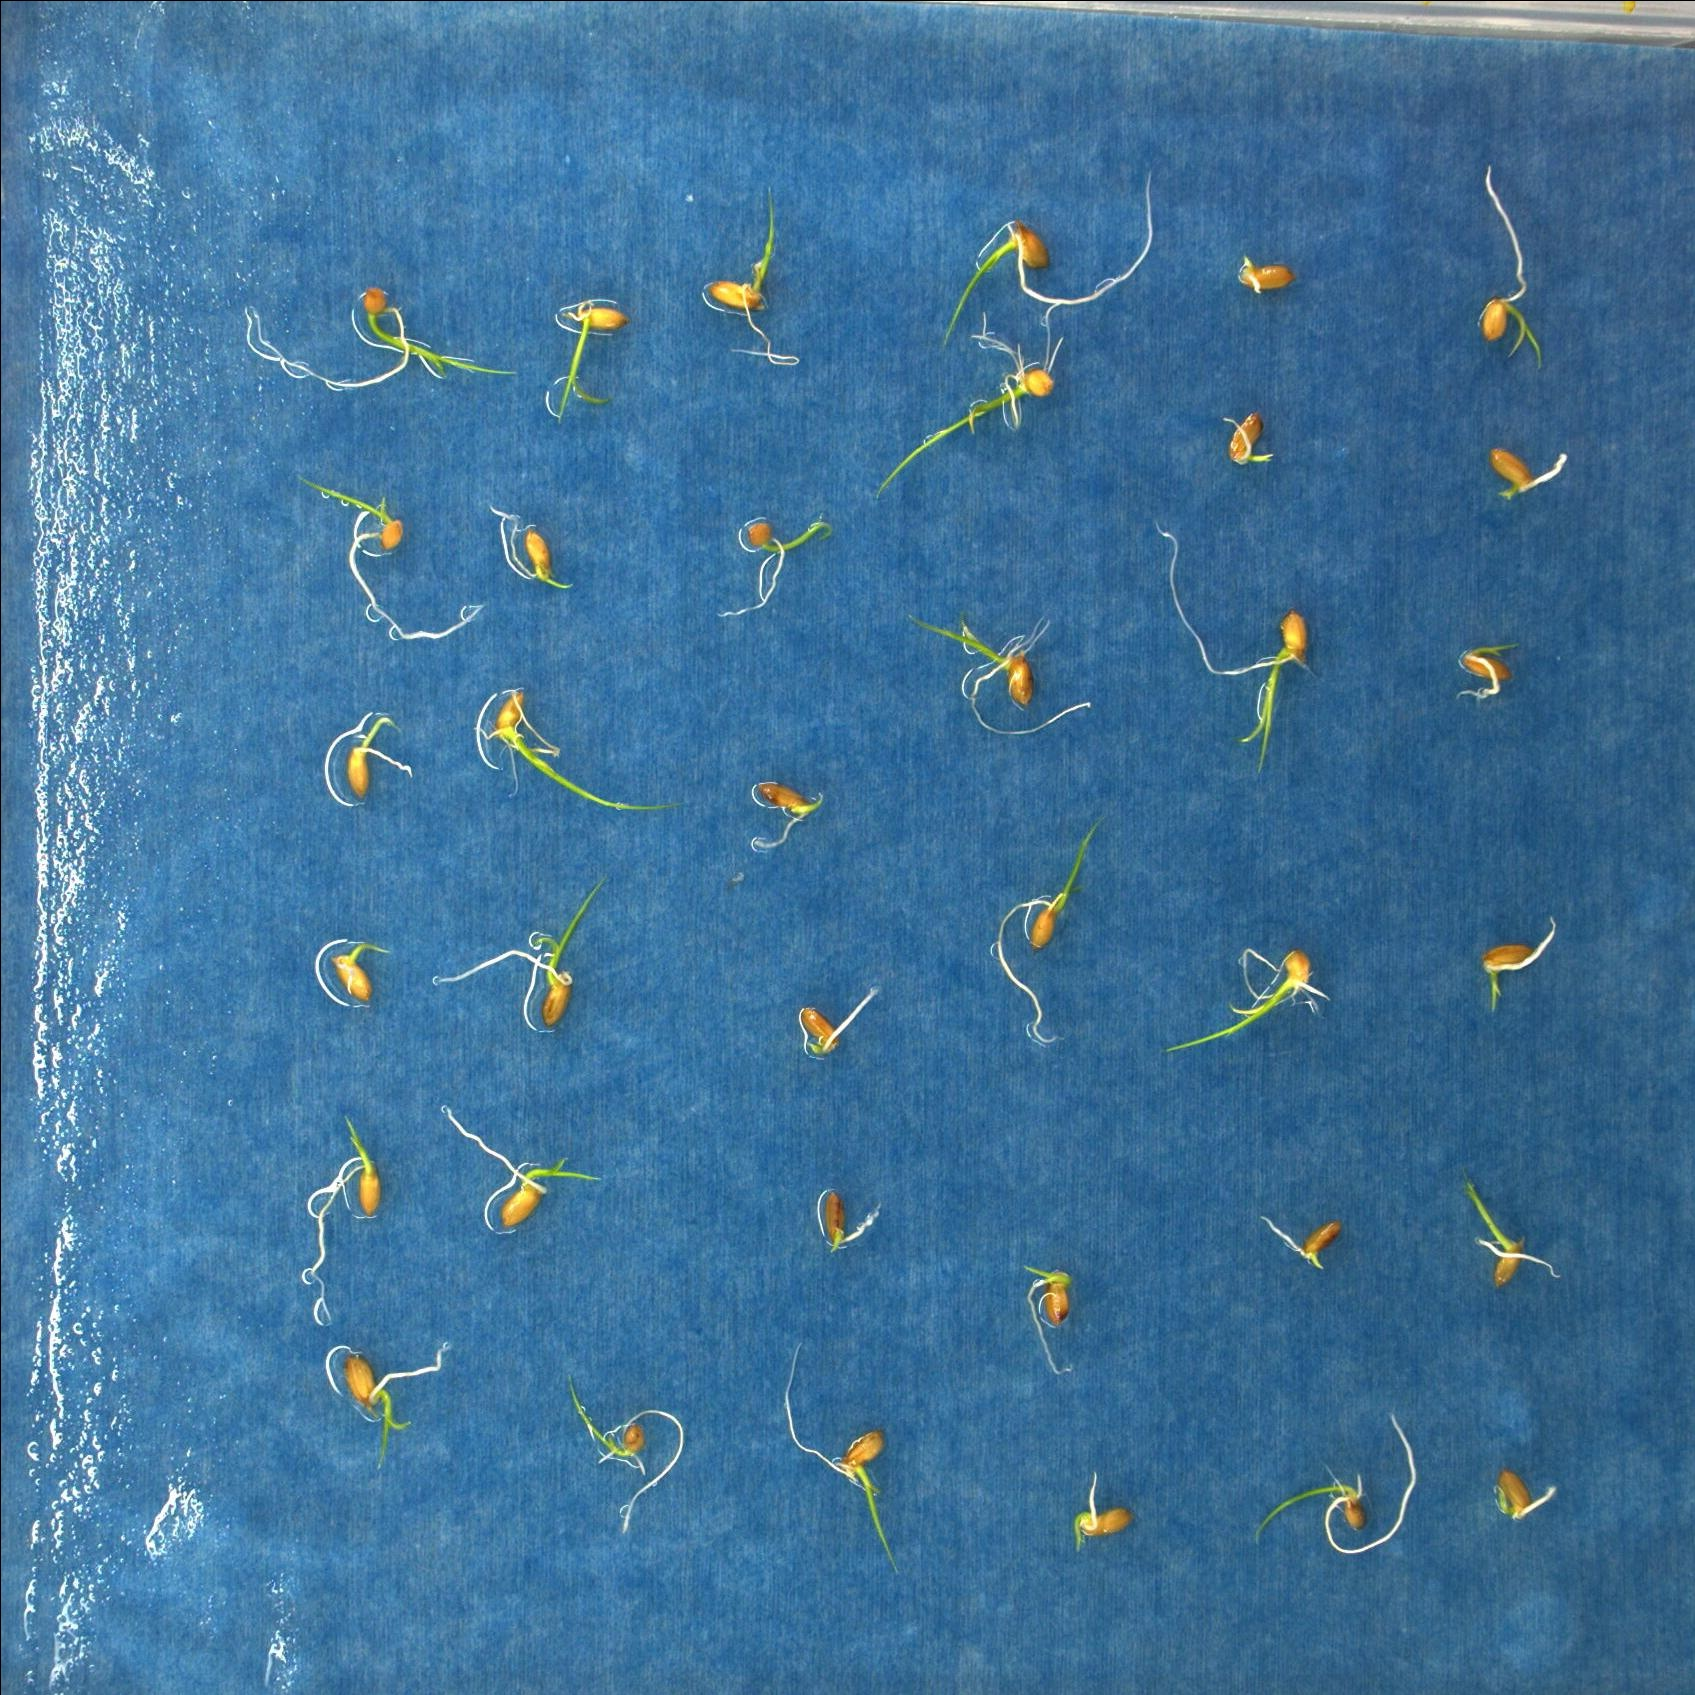not sprout: (798, 990, 879, 1063), (1260, 1212, 1343, 1270), (813, 1191, 882, 1257), (1496, 445, 1566, 494), (1236, 251, 1295, 300)
sprout: (1156, 511, 1309, 770), (879, 307, 1063, 504), (944, 175, 1153, 345), (300, 469, 483, 649), (248, 286, 512, 393), (785, 1343, 905, 1575), (433, 875, 607, 1031), (472, 688, 680, 813), (993, 820, 1107, 1049), (900, 608, 1090, 731), (1253, 1412, 1416, 1554), (567, 1371, 688, 1532), (705, 186, 809, 369), (444, 1104, 605, 1222), (1167, 948, 1335, 1052), (328, 1336, 447, 1478), (1475, 158, 1551, 368), (314, 1119, 379, 1316), (720, 512, 837, 618), (481, 501, 574, 596), (1473, 1181, 1554, 1290), (1478, 914, 1557, 1010), (557, 304, 626, 414), (1024, 1257, 1082, 1381), (744, 782, 829, 844), (1073, 1473, 1138, 1554), (349, 719, 411, 801), (1445, 643, 1513, 708), (324, 944, 393, 1007), (1218, 400, 1274, 469), (1492, 1473, 1555, 1520)
